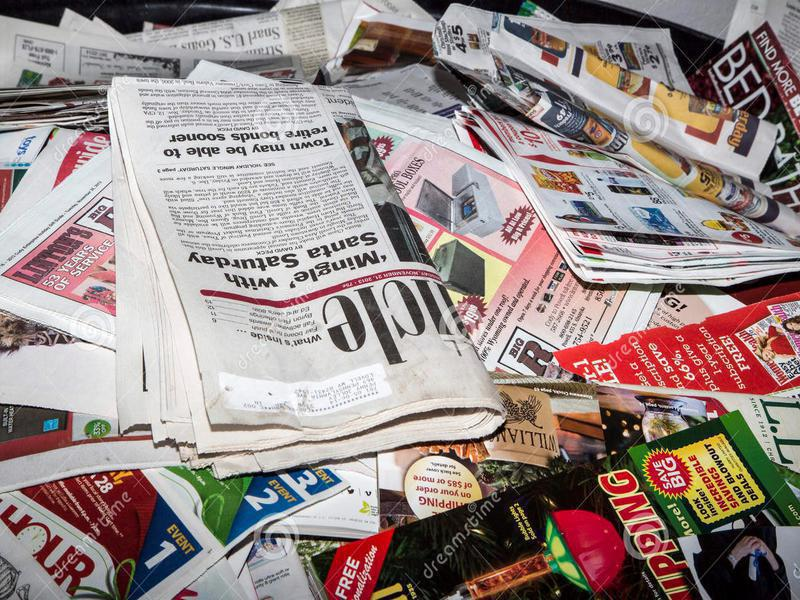paper: (99, 70, 515, 479), (292, 410, 800, 600), (447, 84, 800, 295), (478, 8, 783, 185)
